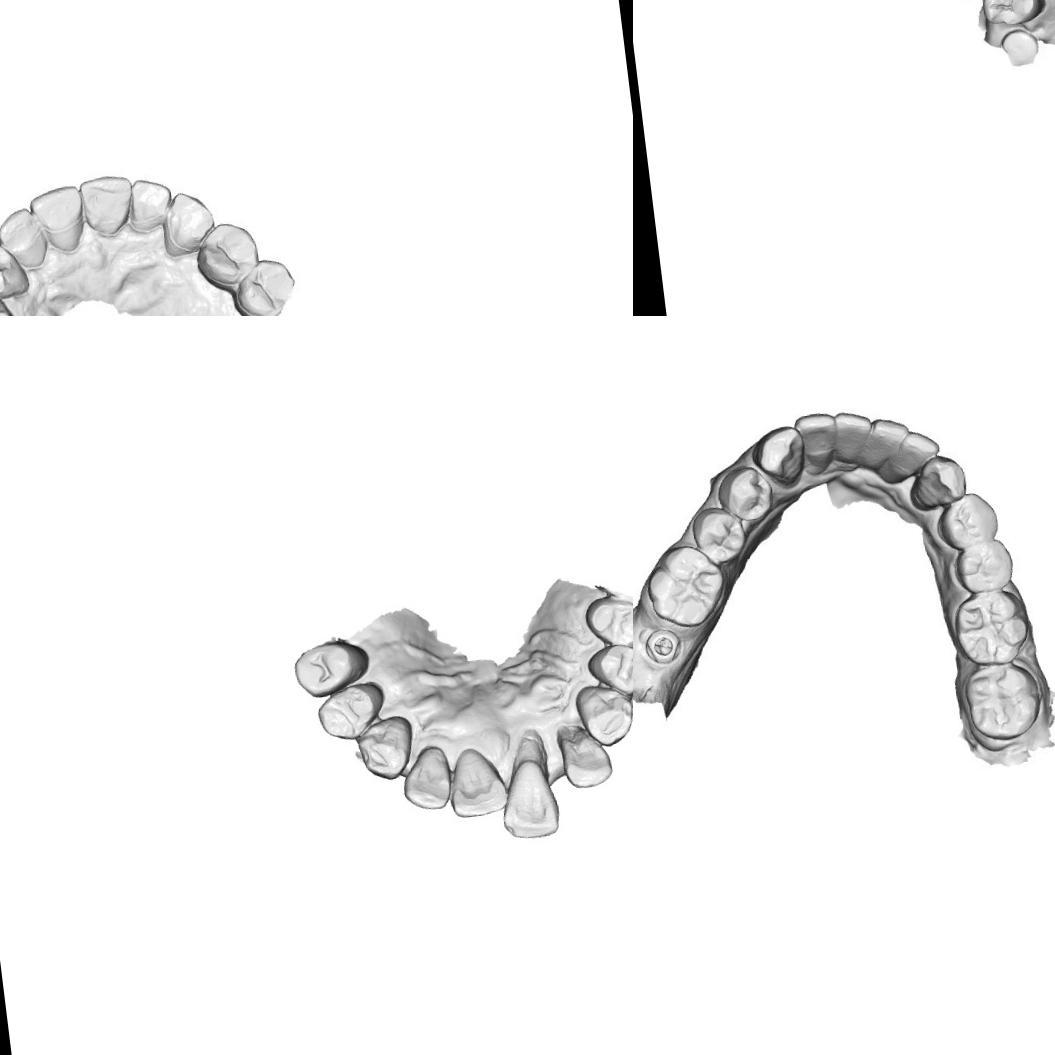canine: (353, 712, 419, 785), (160, 187, 222, 258), (572, 677, 633, 749), (906, 449, 972, 513), (751, 422, 811, 490), (0, 236, 27, 298)
implant: (635, 620, 688, 671)
incisor: (492, 730, 564, 843), (444, 742, 510, 820), (554, 716, 617, 792), (24, 182, 86, 256), (76, 169, 136, 239), (396, 744, 454, 814), (0, 204, 50, 271), (876, 434, 936, 486), (127, 175, 176, 232), (868, 414, 908, 482), (796, 413, 839, 474), (832, 411, 872, 470)
molar: (640, 539, 731, 631), (960, 660, 1048, 745), (948, 585, 1032, 669)
premolar: (188, 219, 263, 292), (290, 637, 374, 700), (314, 678, 390, 744), (231, 256, 306, 316), (932, 488, 1001, 553), (687, 501, 751, 567), (713, 461, 777, 525), (951, 536, 1018, 594), (582, 591, 633, 652), (586, 638, 633, 698), (977, 0, 1047, 30)
